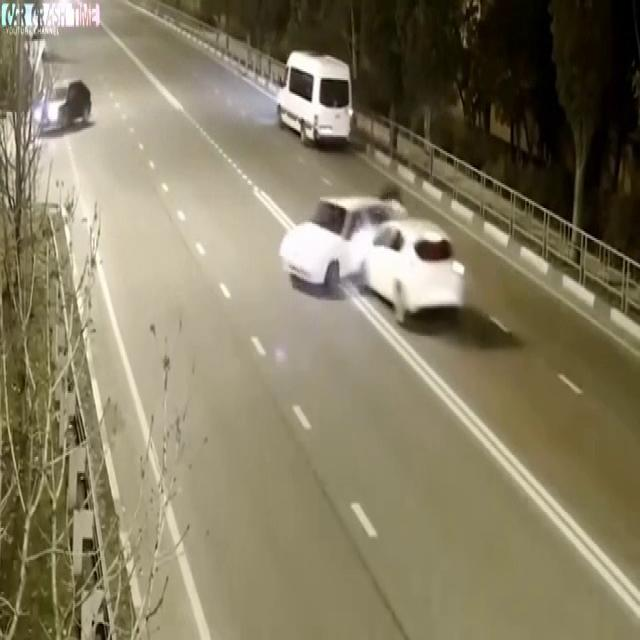accident: (264, 140, 476, 350)
